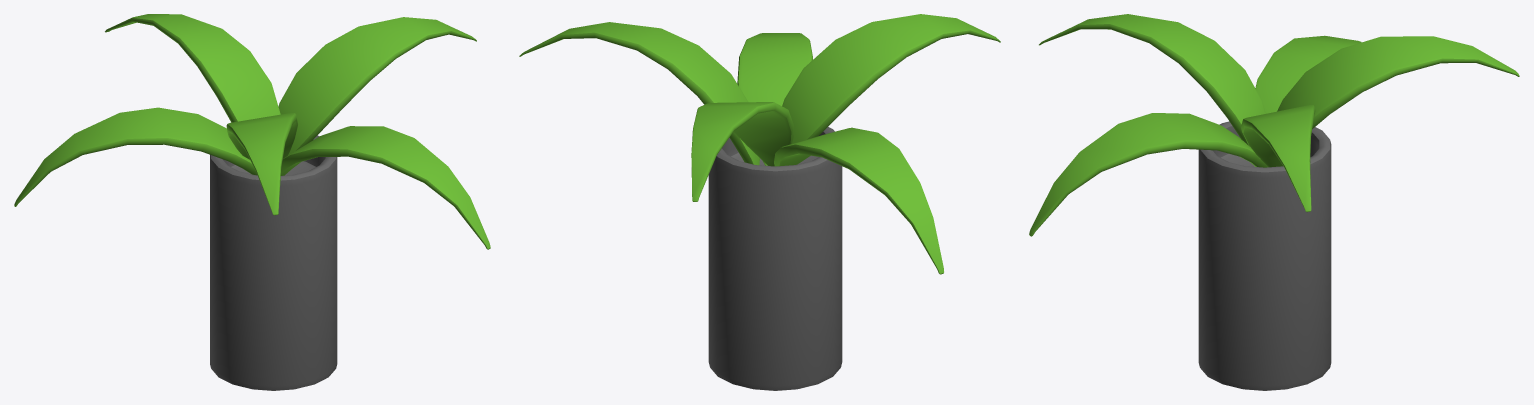
Rendered from SM_plant_room_03.fbx.
The picture shows the model from 3 angles, left to right: view 1: azimuth 30°, elevation 25°; view 2: azimuth 150°, elevation 25°; view 3: azimuth 270°, elevation 25°; orthographic projection. The views are drawn at different scales.
Visible parts, largest first — view 1: Object071; view 2: Object071; view 3: Object071.
Boxes of the visible parts, x1,y1,x2,y2 form: Object071: (14, 14, 490, 390); Object071: (519, 14, 1000, 390); Object071: (1029, 14, 1519, 390).
Bounding box in the file's own units: 35.59 × 23.25 × 33.51.
